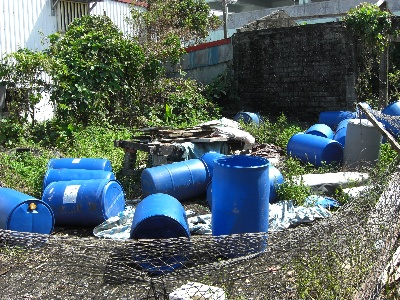bucket: (211, 153, 269, 233), (40, 180, 124, 227), (139, 157, 210, 202), (286, 131, 344, 178), (130, 194, 189, 238), (1, 186, 55, 234), (343, 120, 382, 162), (318, 109, 358, 129)
